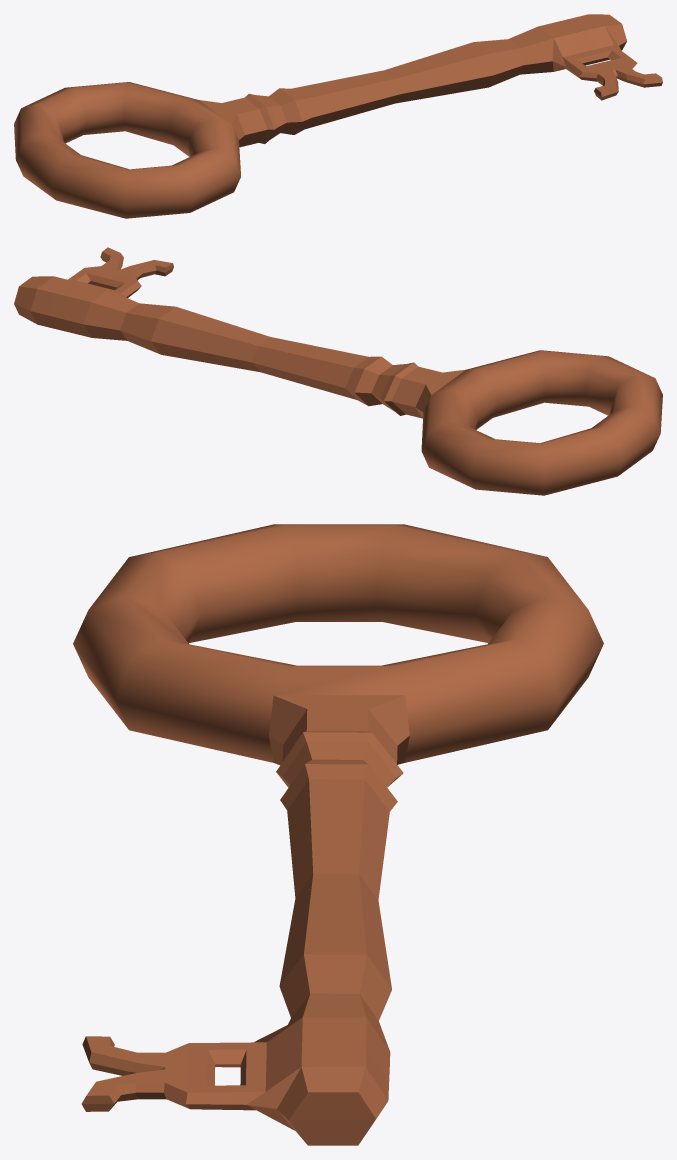
Rendered from Key2.fbx.
3 renders of one model, top to bottom at view 1: azimuth 30°, elevation 25°; view 2: azimuth 150°, elevation 25°; view 3: azimuth 270°, elevation 25°, orthographic. The views are drawn at different scales.
Parts seen in each view (by area): view 1: Torus.096; view 2: Torus.096; view 3: Torus.096.
Part boxes in pixels (left/top/right/bottom): Torus.096: left=14, top=14, right=662, bottom=218; Torus.096: left=14, top=247, right=662, bottom=495; Torus.096: left=73, top=524, right=603, bottom=1145.
Size of the model in its own units: 382 by 30 by 151.
